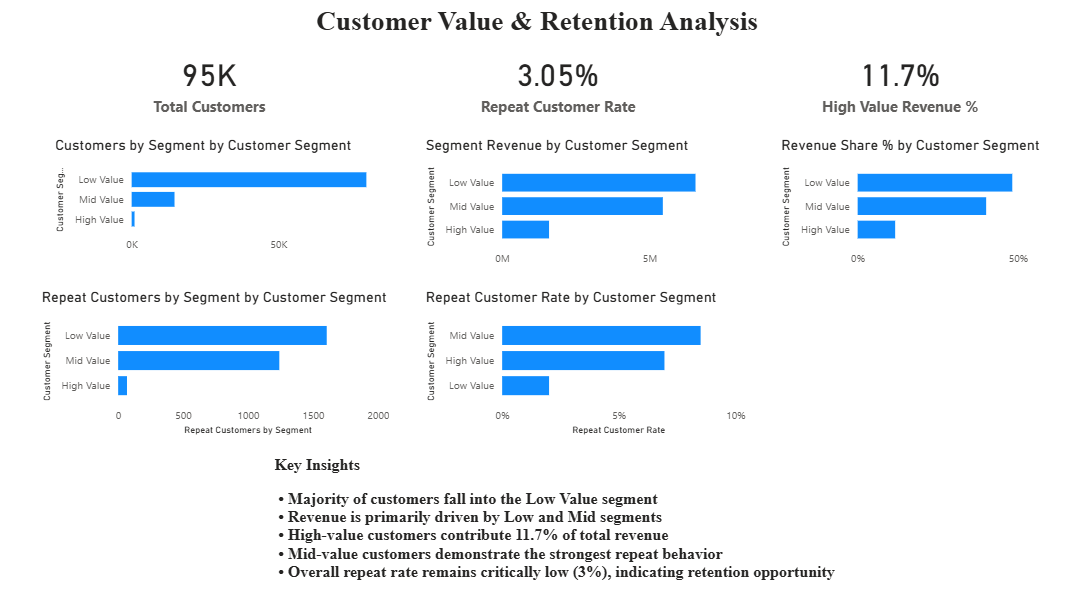

What the dashboard file says about the page in this screenshot:
{"tool":"powerbi","page":{"name":"Page 2","canvas":[1280,720],"ordinal":1},"visuals":[{"type":"textbox","box":[368,0,528,64],"z":0},{"type":"card","fields":{"Values":["olist customer_summary.Total Customers"]},"box":[144,48,208,96],"z":1000},{"type":"card","fields":{"Values":["olist customer_summary.Repeat Customer Rate"]},"box":[544,48,224,96],"z":2000},{"type":"barChart","fields":{"Category":["olist customer_summary.Customer Segment"],"Y":["olist customer_summary.Customers by Segment"]},"box":[64,160,384,144],"z":3000},{"type":"barChart","fields":{"Category":["olist customer_summary.Customer Segment"],"Y":["olist customer_summary.Segment Revenue"]},"box":[496,160,384,160],"z":4000},{"type":"barChart","fields":{"Y":["olist customer_summary.Revenue Share %"],"Category":["olist customer_summary.Customer Segment"]},"box":[912,160,336,160],"z":5000},{"type":"card","fields":{"Values":["olist customer_summary.High Value Revenue %"]},"box":[944,48,224,96],"z":6000},{"type":"barChart","fields":{"Y":["olist customer_summary.Repeat Customers by Segment"],"Category":["olist customer_summary.Customer Segment"]},"box":[48,336,416,176],"z":7000},{"type":"barChart","fields":{"Category":["olist customer_summary.Customer Segment"],"Y":["olist customer_summary.Repeat Customer Rate"]},"box":[496,336,384,176],"z":8000},{"type":"textbox","box":[320,528,688,176],"z":8001}]}

Visuals, with their boxes in screenshot pixels (x1, y1, x2, y2), scaled from the page's 1280x720 canvas onto the 1086x609 screenshot:
textbox: [x1=312, y1=0, x2=760, y2=54]
card - olist customer_summary.Total Customers: [x1=122, y1=41, x2=299, y2=122]
card - olist customer_summary.Repeat Customer Rate: [x1=462, y1=41, x2=652, y2=122]
barChart - olist customer_summary.Customer Segment x olist customer_summary.Customers by Segment: [x1=54, y1=135, x2=380, y2=257]
barChart - olist customer_summary.Customer Segment x olist customer_summary.Segment Revenue: [x1=421, y1=135, x2=747, y2=271]
barChart - olist customer_summary.Revenue Share % x olist customer_summary.Customer Segment: [x1=774, y1=135, x2=1059, y2=271]
card - olist customer_summary.High Value Revenue %: [x1=801, y1=41, x2=991, y2=122]
barChart - olist customer_summary.Repeat Customers by Segment x olist customer_summary.Customer Segment: [x1=41, y1=284, x2=394, y2=433]
barChart - olist customer_summary.Customer Segment x olist customer_summary.Repeat Customer Rate: [x1=421, y1=284, x2=747, y2=433]
textbox: [x1=272, y1=447, x2=855, y2=595]
